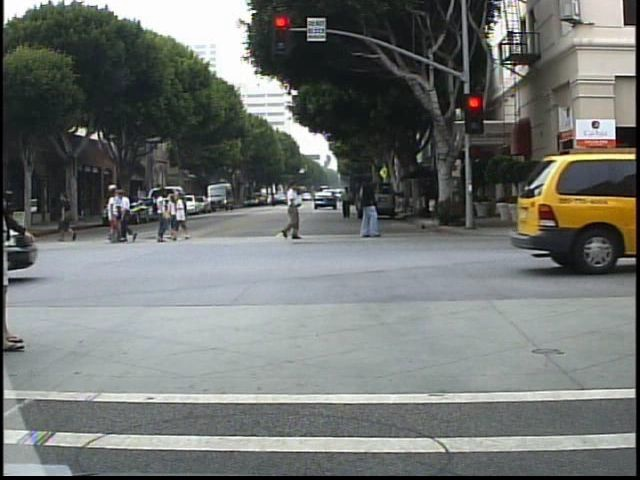person: (350, 169, 388, 241), (279, 177, 309, 241), (152, 188, 175, 246), (56, 185, 77, 241), (106, 181, 123, 245), (104, 188, 119, 245), (122, 186, 133, 245), (340, 184, 356, 220)
